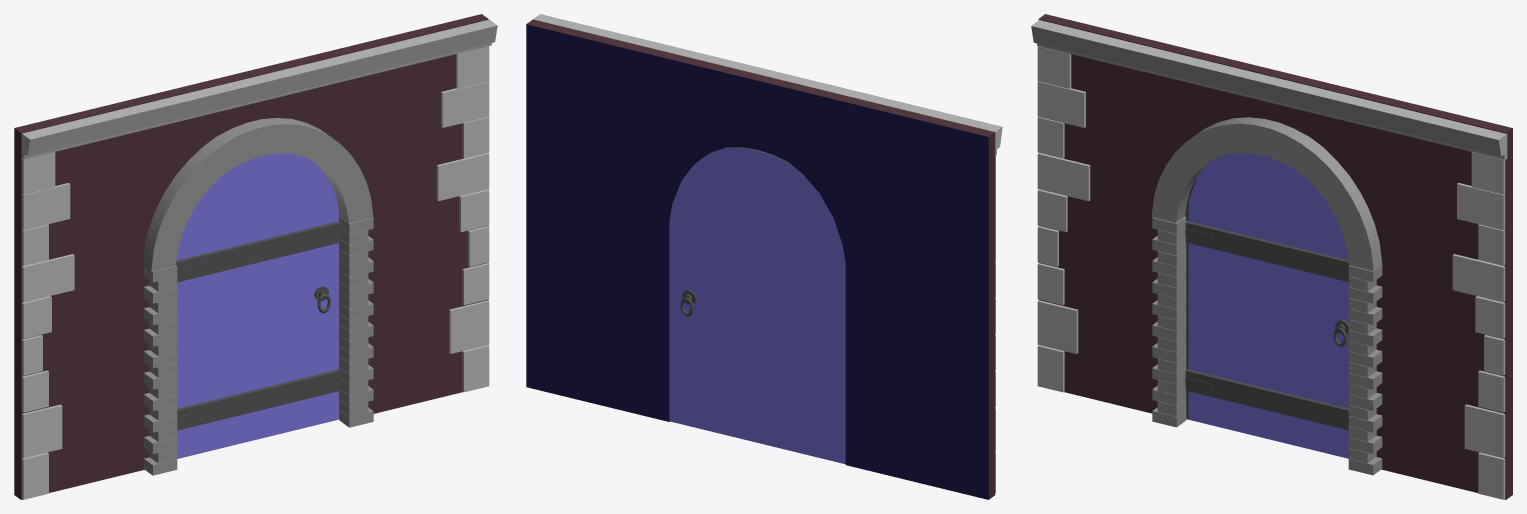
The model's file is ArchDoorWall.fbx.
The picture shows the model from 3 angles, left to right: view 1: azimuth 30°, elevation 25°; view 2: azimuth 150°, elevation 25°; view 3: azimuth 330°, elevation 25°; orthographic projection.
Visible parts, largest first — view 1: BASE.007, ARCH DOOR, DOOR FRAME, WALL SIDES.006, WALL TOP.006; view 2: BASE.007, ARCH DOOR, WALL TOP.006; view 3: BASE.007, ARCH DOOR, DOOR FRAME, WALL SIDES.006, WALL TOP.006.
Part boxes in pixels (box(x1,y1,x2,y2)): BASE.007: box(14, 14, 488, 499); ARCH DOOR: box(176, 153, 340, 458); DOOR FRAME: box(142, 118, 373, 475); WALL SIDES.006: box(22, 46, 489, 499); WALL TOP.006: box(22, 19, 497, 159); BASE.007: box(526, 19, 995, 499); ARCH DOOR: box(669, 147, 845, 464); WALL TOP.006: box(533, 14, 1002, 156); BASE.007: box(1038, 14, 1512, 499); ARCH DOOR: box(1185, 153, 1349, 458); DOOR FRAME: box(1151, 117, 1382, 475); WALL SIDES.006: box(1037, 46, 1505, 499); WALL TOP.006: box(1031, 20, 1507, 159).
Size of the model in its own units: 801 by 600 by 56.53.
